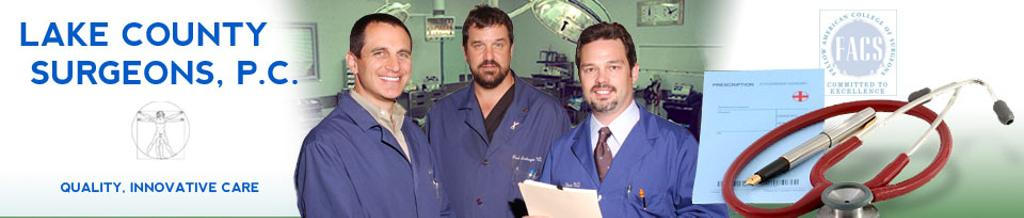face: (357, 21, 411, 98), (579, 39, 631, 112), (465, 23, 510, 86)
